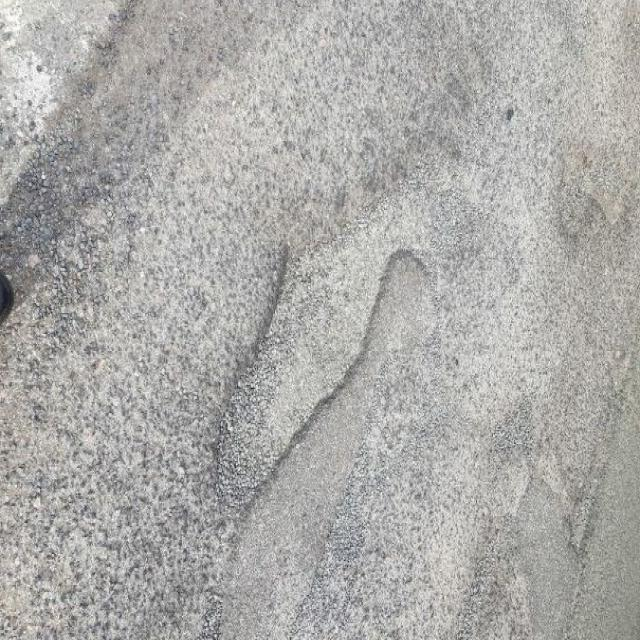Pothole: (202, 181, 439, 522)
